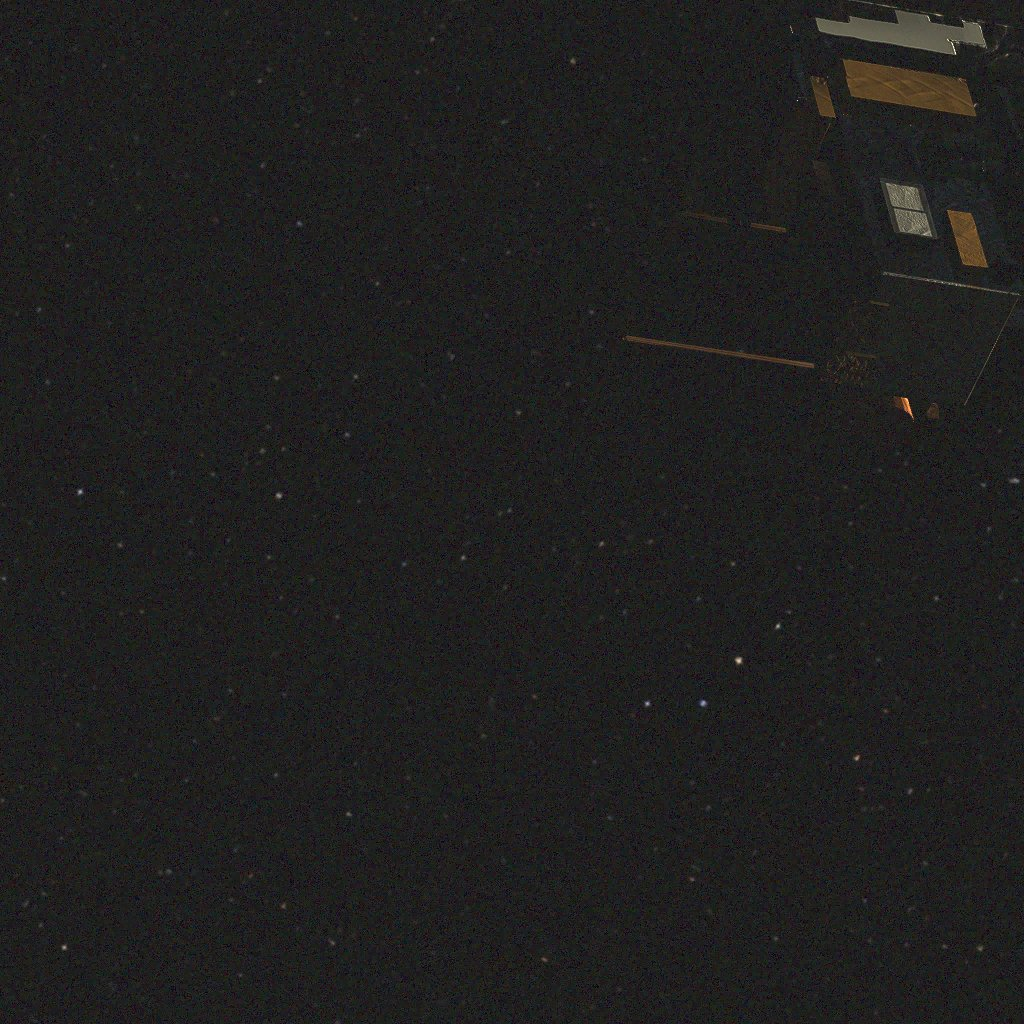soho: (581, 18, 1002, 475)
